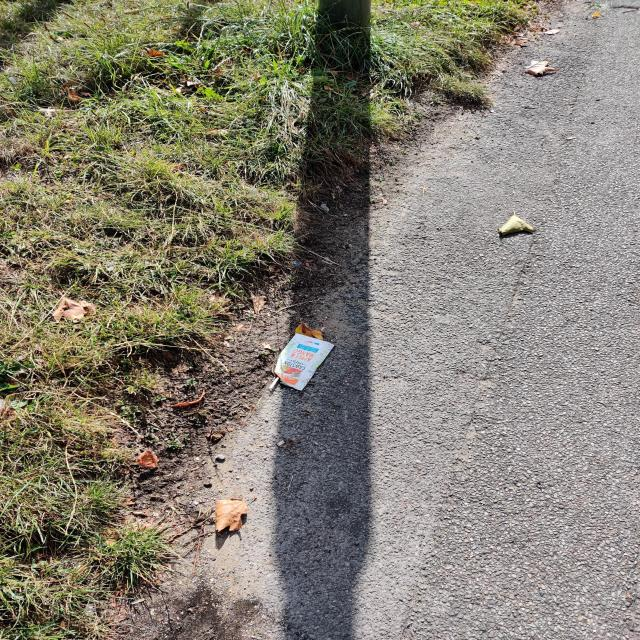litter: (264, 325, 345, 390)
